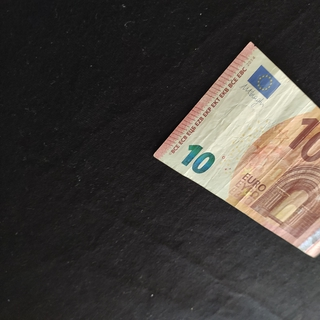10EUROFront: (152, 40, 320, 259)
